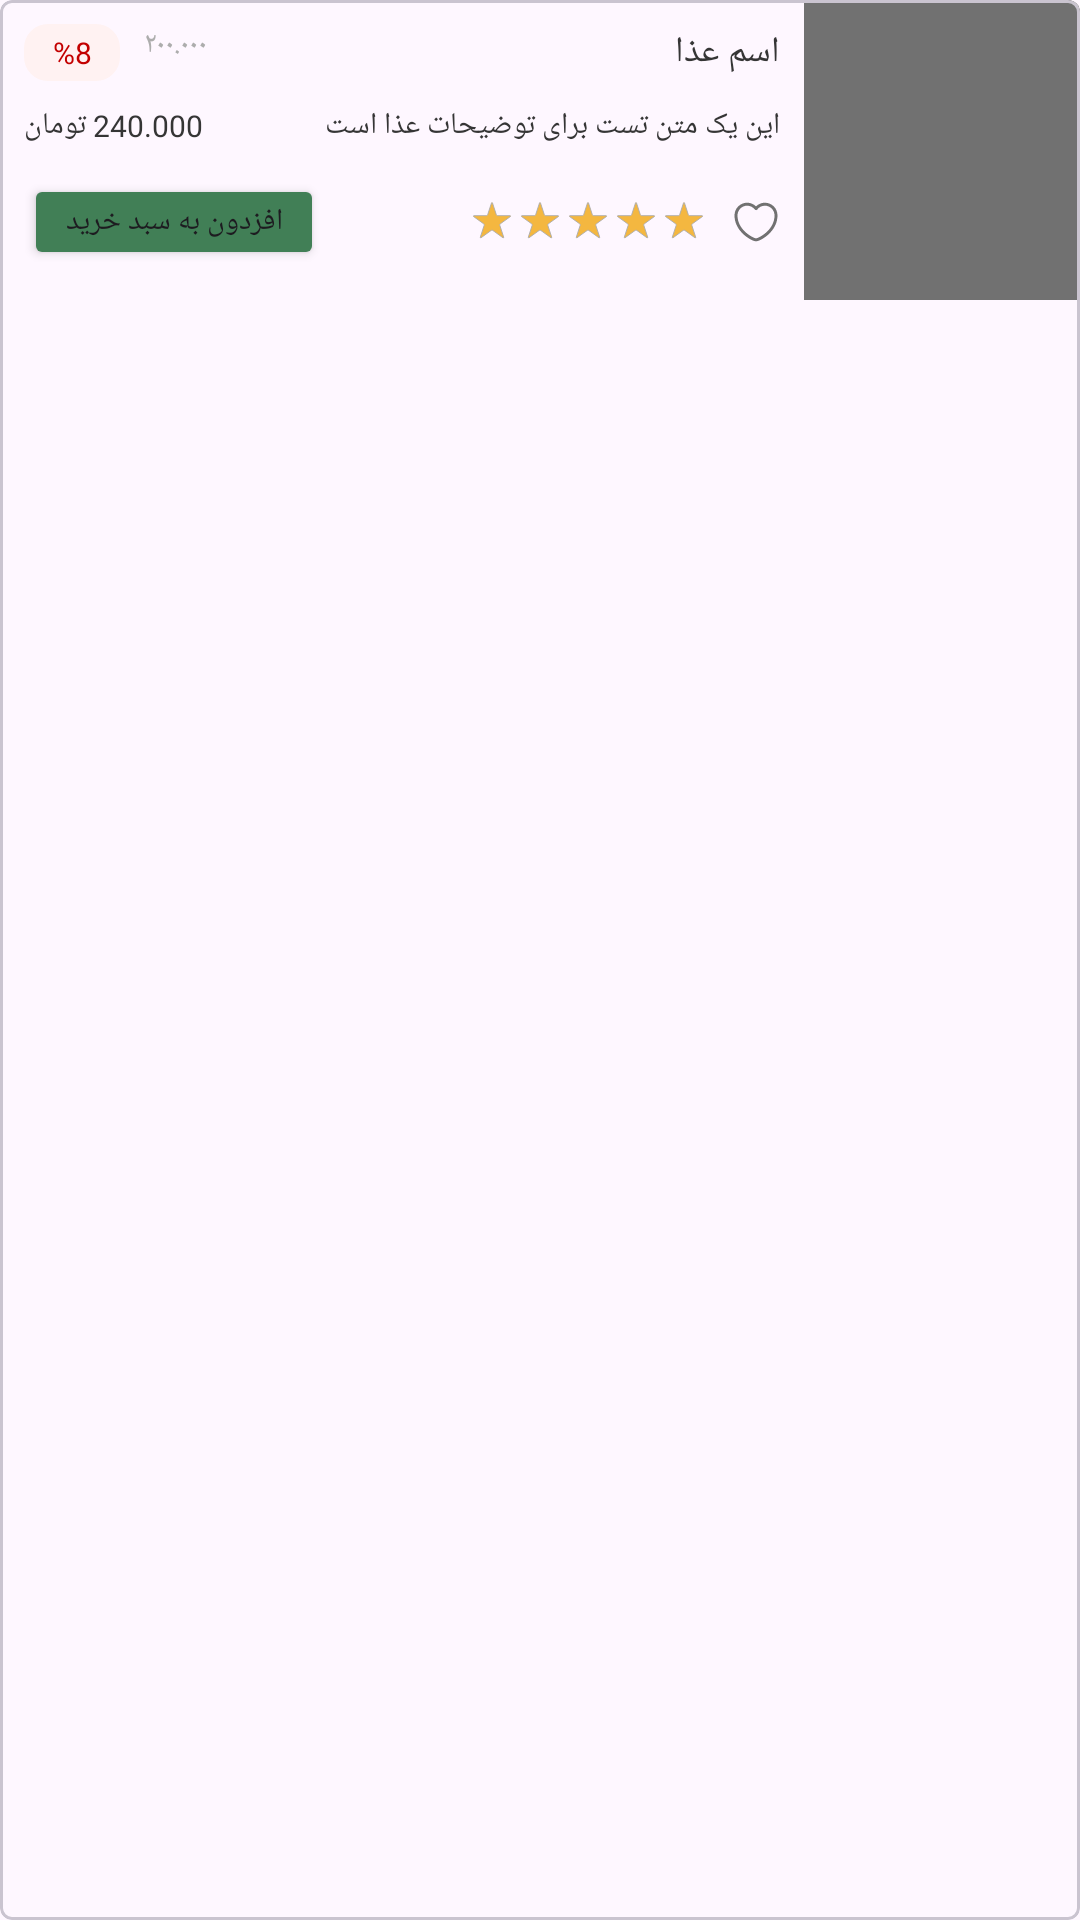

Locate icon controls on the screen. Image size 1080x1920, boxes as [x1, y1, x2, y2].
click this to add this food into your favorite section: [734, 202, 778, 242]
